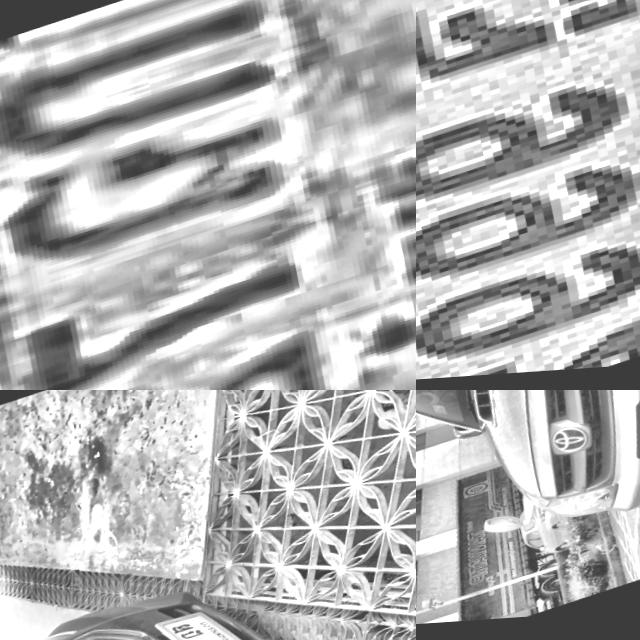license-plate: (0, 0, 416, 390), (416, 0, 640, 390), (151, 596, 272, 640)
